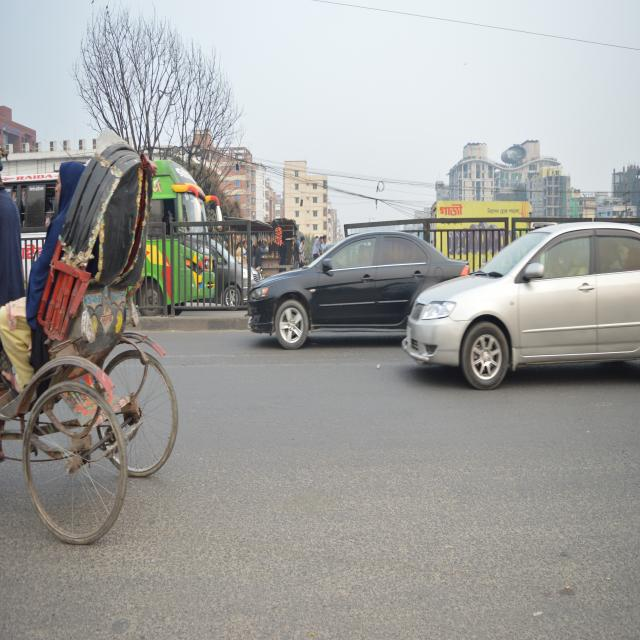bus: (12, 135, 219, 311)
car: (413, 210, 640, 394), (230, 204, 472, 360)
